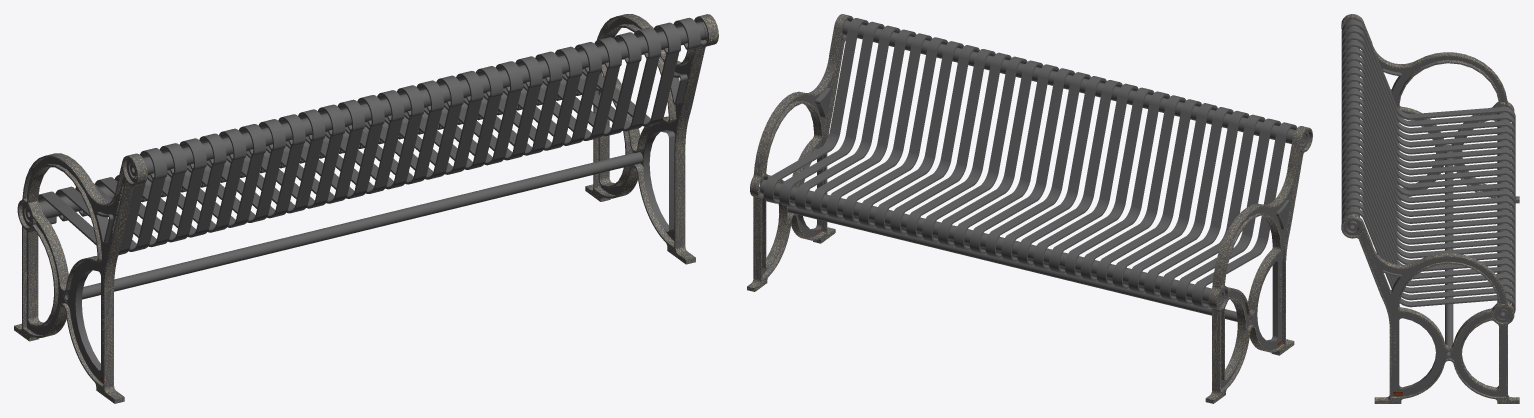
The picture shows the model from 3 angles, left to right: view 1: azimuth 30°, elevation 25°; view 2: azimuth 150°, elevation 25°; view 3: azimuth 270°, elevation 25°; orthographic projection. The views are drawn at different scales.
Visible parts, largest first — view 1: mesh20_mesh20-geometry, mesh1_mesh1-geometry, mesh109_mesh109-geometry, mesh111_mesh111-geometry, mesh99_mesh99-geometry, mesh97_mesh97-geometry, mesh93_mesh93-geometry, mesh51_mesh51-geometry, mesh57_mesh57-geometry, mesh73_mesh73-geometry, mesh61_mesh61-geometry, mesh101_mesh101-geometry (+21 smaller); view 2: mesh20_mesh20-geometry, mesh1_mesh1-geometry, mesh109_mesh109-geometry, mesh110_mesh110-geometry, mesh111_mesh111-geometry, mesh63_mesh63-geometry, mesh73_mesh73-geometry, mesh81_mesh81-geometry, mesh49_mesh49-geometry, mesh55_mesh55-geometry, mesh71_mesh71-geometry, mesh93_mesh93-geometry (+21 smaller); view 3: mesh1_mesh1-geometry, mesh20_mesh20-geometry, mesh87_mesh87-geometry, mesh95_mesh95-geometry, mesh97_mesh97-geometry, mesh89_mesh89-geometry, mesh63_mesh63-geometry, mesh71_mesh71-geometry, mesh75_mesh75-geometry, mesh93_mesh93-geometry, mesh61_mesh61-geometry, mesh73_mesh73-geometry (+21 smaller).
Boxes of the visible parts, x1,y1,x2,y2 form: mesh20_mesh20-geometry: (14, 153, 147, 403); mesh1_mesh1-geometry: (585, 14, 718, 264); mesh109_mesh109-geometry: (63, 152, 642, 299); mesh111_mesh111-geometry: (143, 22, 705, 175); mesh99_mesh99-geometry: (38, 148, 167, 255); mesh97_mesh97-geometry: (55, 143, 186, 251); mesh93_mesh93-geometry: (95, 133, 226, 242); mesh51_mesh51-geometry: (516, 32, 641, 140); mesh57_mesh57-geometry: (457, 46, 582, 155); mesh73_mesh73-geometry: (181, 114, 305, 222); mesh61_mesh61-geometry: (418, 56, 542, 165); mesh101_mesh101-geometry: (576, 17, 700, 126); mesh20_mesh20-geometry: (1205, 126, 1312, 403); mesh1_mesh1-geometry: (747, 14, 853, 291); mesh109_mesh109-geometry: (787, 206, 1252, 322); mesh110_mesh110-geometry: (760, 179, 1220, 302); mesh111_mesh111-geometry: (844, 21, 1295, 143); mesh63_mesh63-geometry: (906, 52, 1011, 238); mesh73_mesh73-geometry: (1080, 95, 1185, 281); mesh81_mesh81-geometry: (1033, 83, 1138, 269); mesh49_mesh49-geometry: (795, 25, 900, 211); mesh55_mesh55-geometry: (842, 37, 947, 223); mesh71_mesh71-geometry: (969, 68, 1074, 253); mesh93_mesh93-geometry: (1144, 111, 1249, 296); mesh1_mesh1-geometry: (1341, 214, 1519, 403); mesh20_mesh20-geometry: (1341, 14, 1519, 203); mesh87_mesh87-geometry: (1341, 62, 1515, 171); mesh95_mesh95-geometry: (1341, 34, 1515, 143); mesh97_mesh97-geometry: (1341, 27, 1515, 136); mesh89_mesh89-geometry: (1341, 55, 1515, 164); mesh63_mesh63-geometry: (1341, 145, 1515, 254); mesh71_mesh71-geometry: (1341, 117, 1515, 226); mesh75_mesh75-geometry: (1341, 110, 1515, 219); mesh93_mesh93-geometry: (1341, 41, 1515, 150); mesh61_mesh61-geometry: (1341, 152, 1515, 261); mesh73_mesh73-geometry: (1341, 69, 1515, 178).
Bounding box in the file's own units: 0.8717 × 0.3698 × 0.3215.
